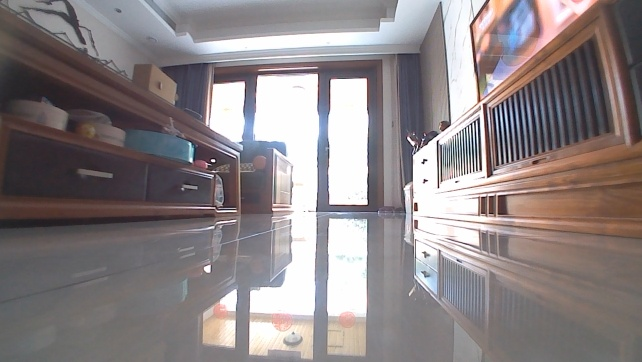TV_stand: (410, 0, 641, 241)
sofa1: (237, 137, 296, 217)
tea_table: (0, 0, 245, 225)
